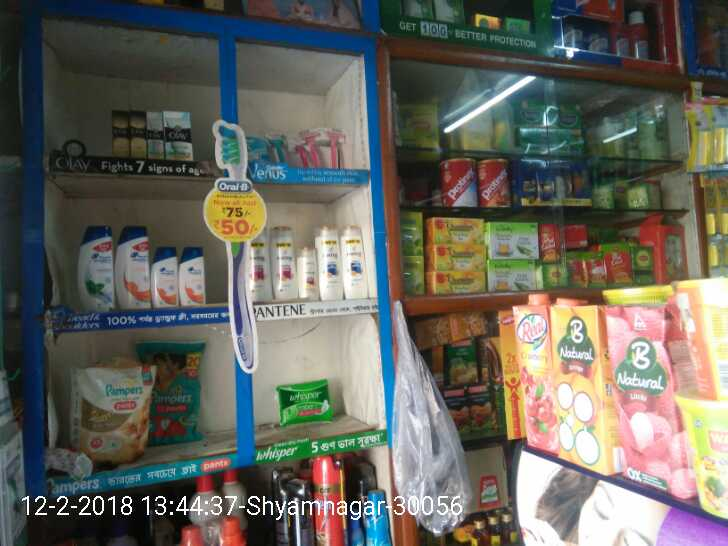venus: (326, 128, 345, 169), (269, 132, 289, 164), (310, 128, 325, 166), (248, 138, 266, 161), (296, 142, 310, 166)
